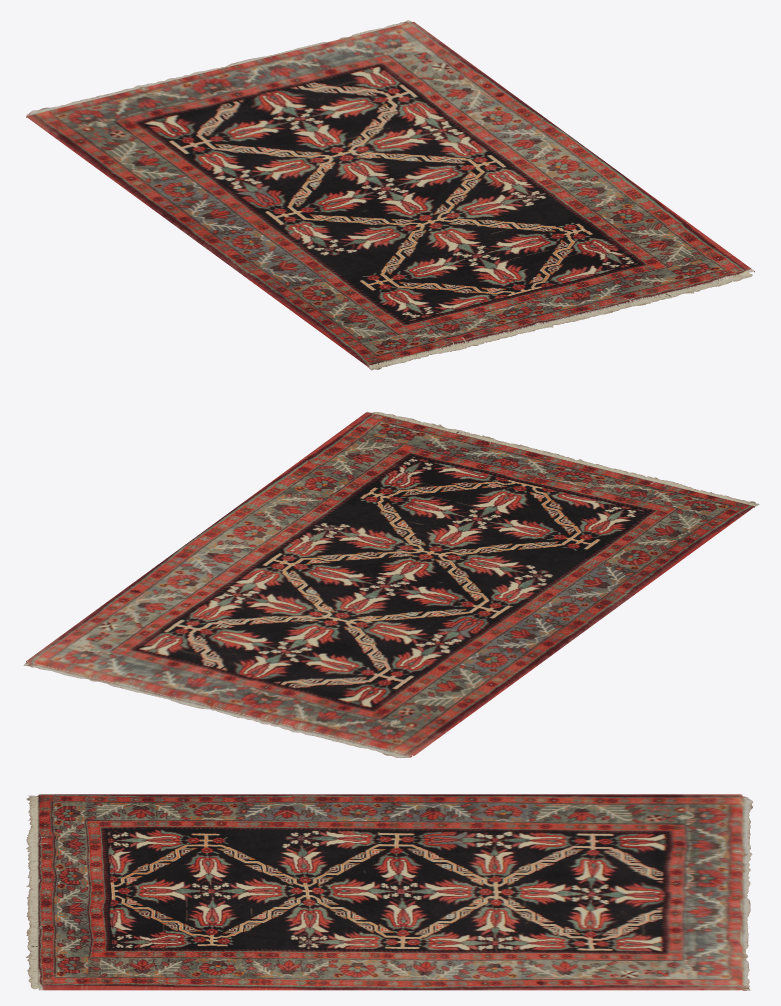
Rendered from sirjan-2015-016-room.glb.
The picture shows the model from 3 angles, top to bottom: view 1: azimuth 30°, elevation 25°; view 2: azimuth 150°, elevation 25°; view 3: azimuth 270°, elevation 25°; orthographic projection. The views are drawn at different scales.
Visible parts, largest first — view 1: rug; view 2: rug; view 3: rug.
Boxes of the visible parts, left/top/right/bottom form: rug: left=26, top=20, right=754, bottom=370; rug: left=23, top=411, right=759, bottom=758; rug: left=26, top=794, right=753, bottom=990.
Size of the model in its own units: 1.5 by 0.0122 by 2.44.
Materials: 10 (9 with a texture image).
